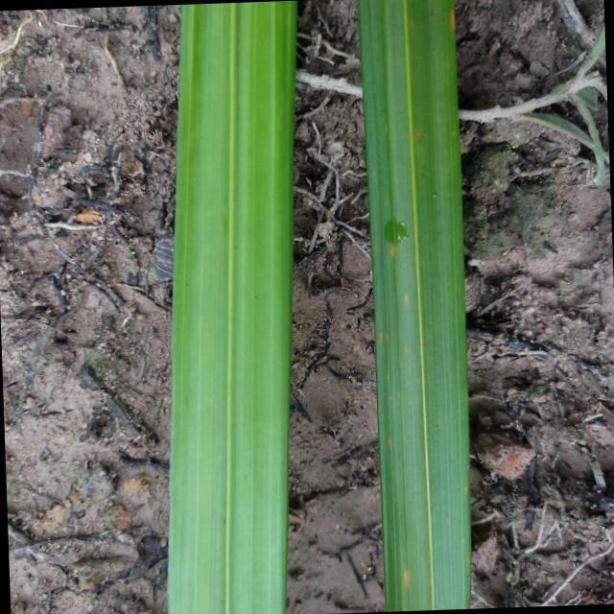nitrogen: (165, 0, 294, 614), (360, 0, 468, 614)
